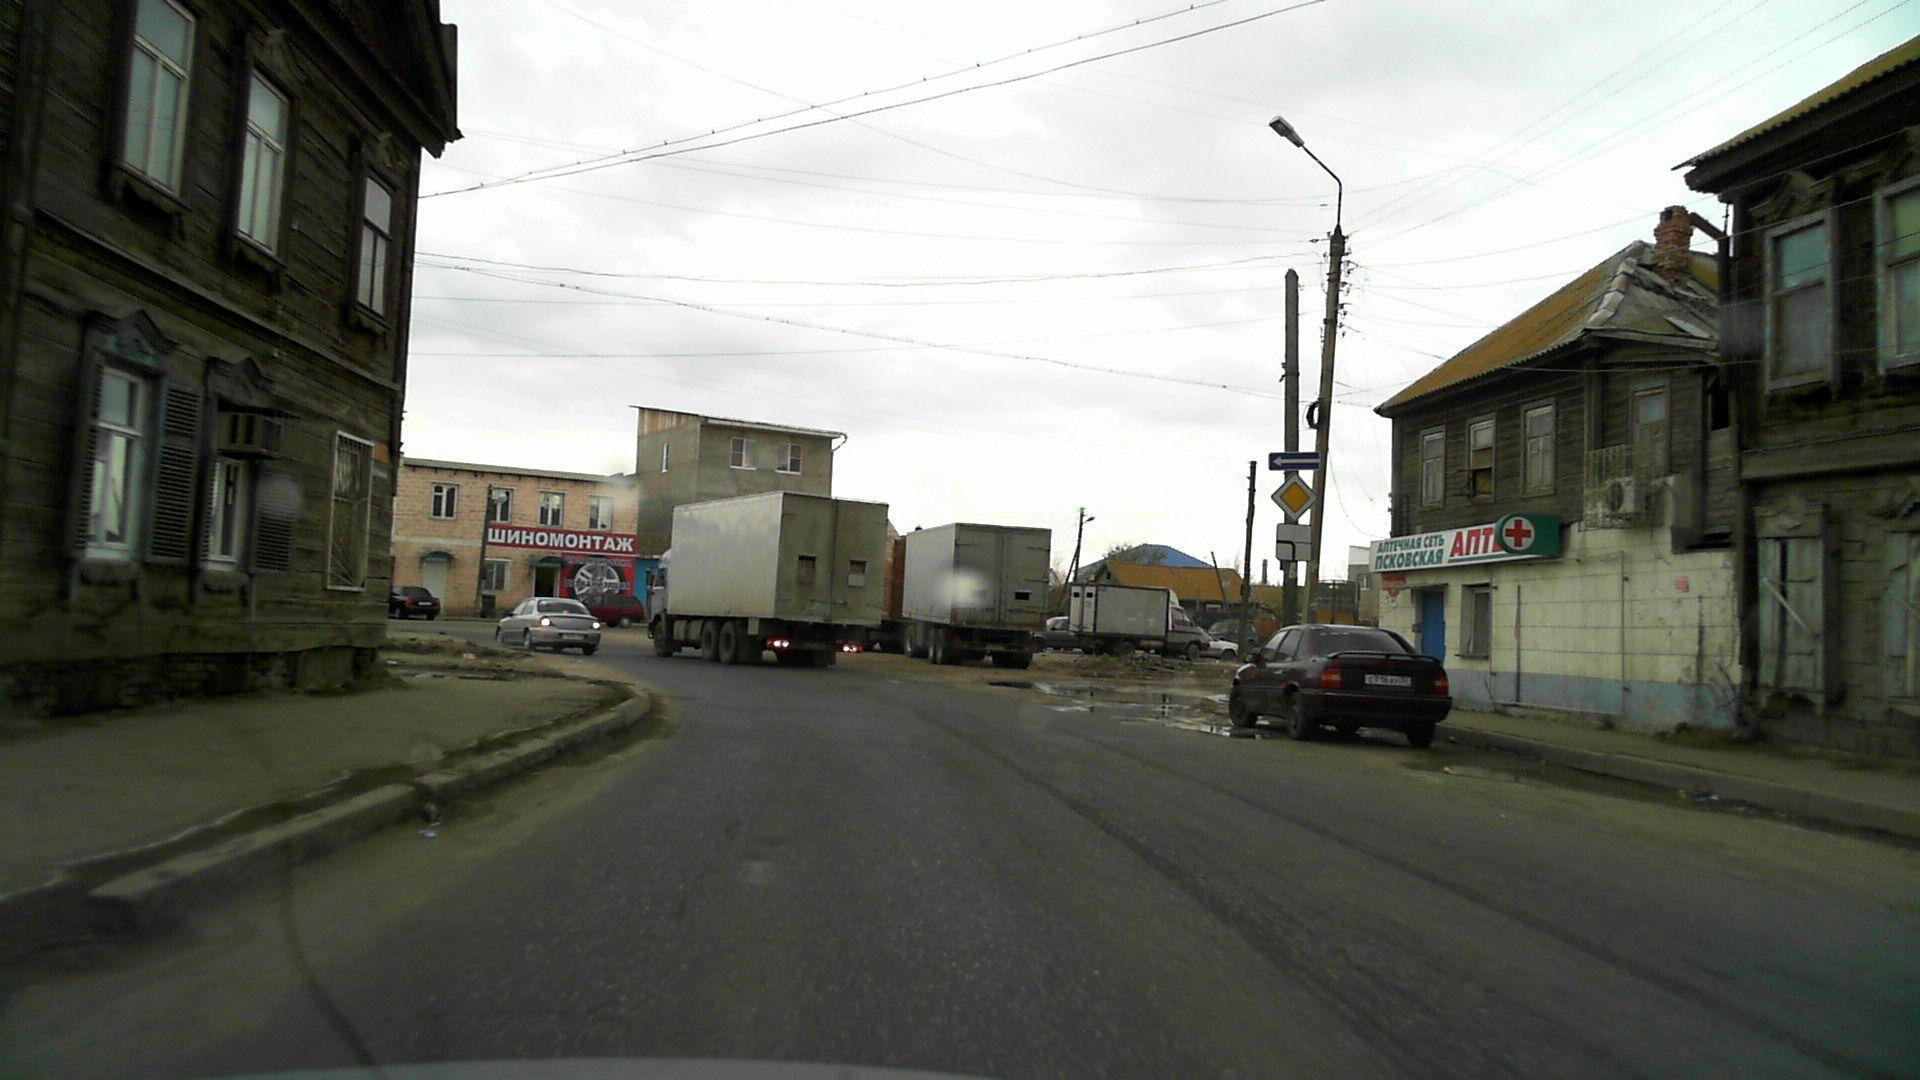2_1: (1271, 475, 1316, 520)
5_7_2: (1269, 451, 1320, 473)
8_13: (1275, 520, 1312, 562)
